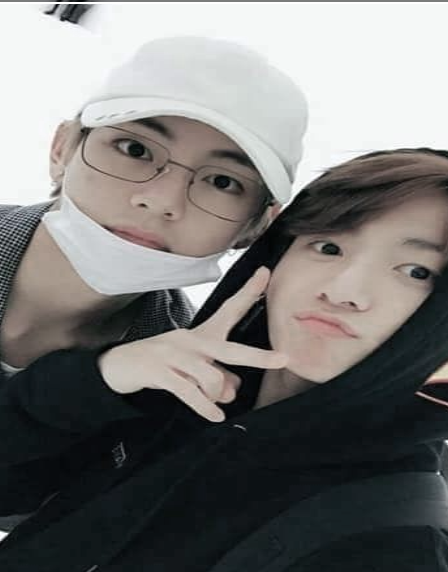mask_weared_incorrect: (51, 33, 303, 299)
